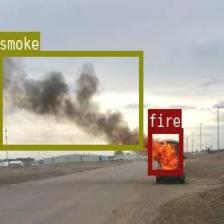fire: (147, 128, 182, 173)
smoke: (0, 50, 142, 148)
